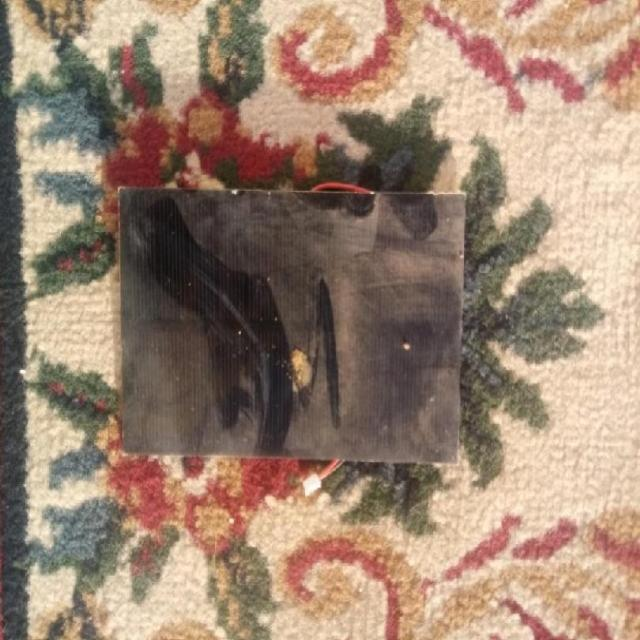faulty: (121, 192, 459, 472)
